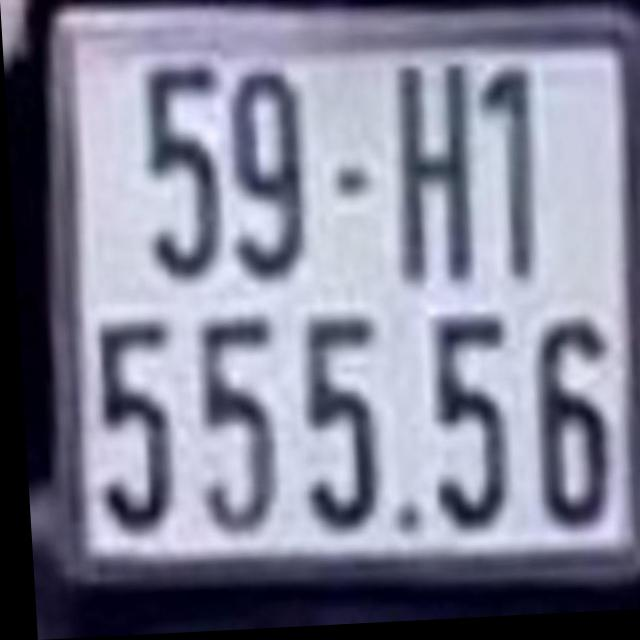1: (474, 64, 539, 282)
5: (423, 311, 510, 542), (191, 319, 280, 538), (140, 61, 224, 280), (90, 316, 170, 530), (302, 315, 378, 533)
6: (531, 320, 612, 539)
9: (229, 72, 303, 278)
H: (395, 66, 474, 291)
